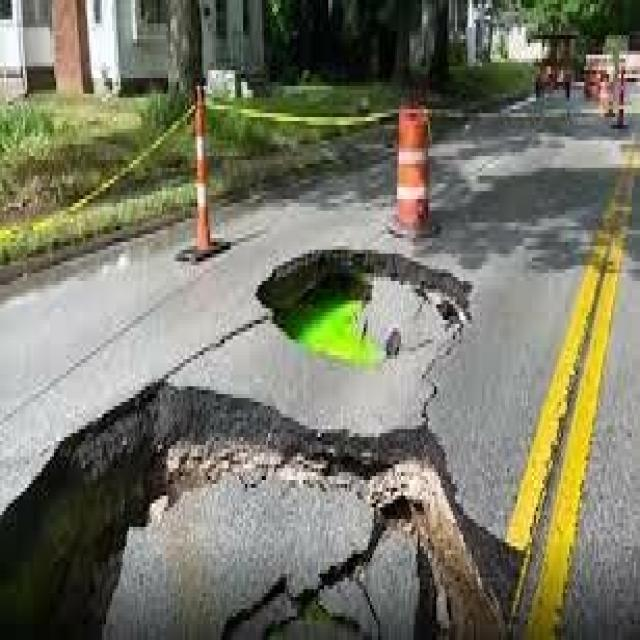Pothole: (4, 331, 513, 640), (226, 222, 501, 398)
